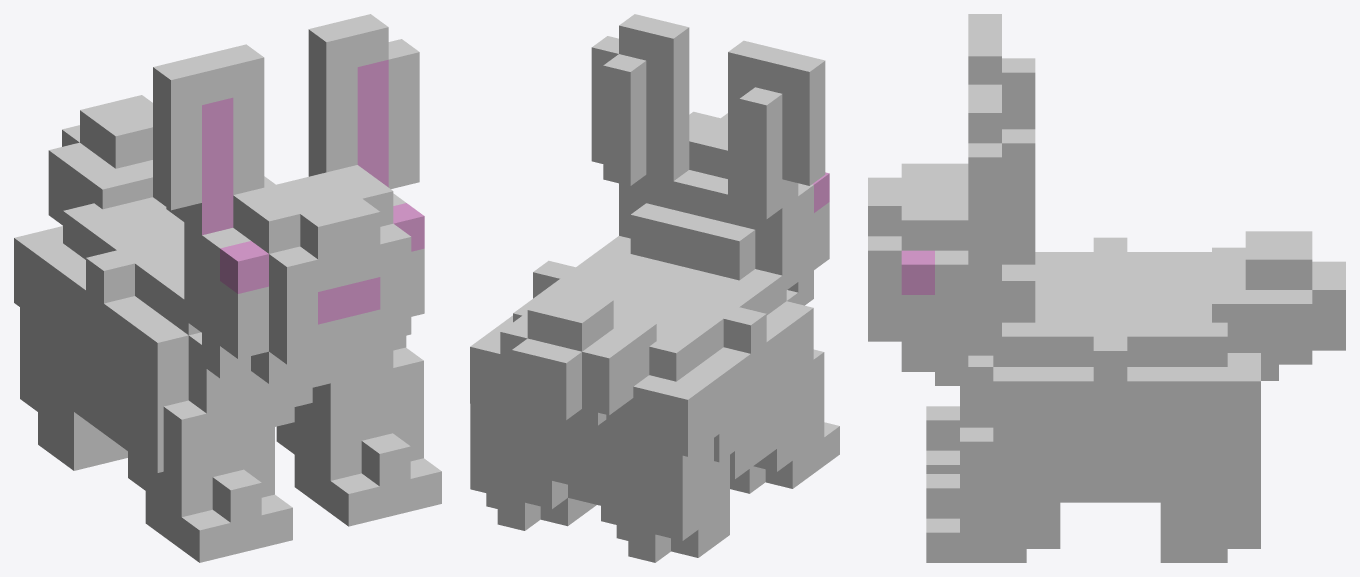
File: rabbit.fbx
3 views of the same model, side by side, from view 1: azimuth 30°, elevation 25°; view 2: azimuth 150°, elevation 25°; view 3: azimuth 270°, elevation 25° (orthographic). The views are drawn at different scales.
Visible parts, largest first — view 1: head, body, F_L, F_R, tail, B_R; view 2: head, body, tail, B_R, B_L, F_R; view 3: body, head, tail, F_L, B_L, F_R.
Boxes of the visible parts, x1,y1,x2,y2 form: head: (153, 14, 424, 383); body: (14, 176, 406, 472); F_L: (276, 347, 441, 526); F_R: (128, 397, 292, 562); tail: (48, 95, 152, 225); B_R: (20, 307, 127, 470); head: (591, 14, 829, 305); body: (470, 236, 813, 505); tail: (500, 287, 656, 425); B_R: (601, 435, 729, 562); B_L: (470, 404, 596, 530); F_R: (730, 349, 839, 493); body: (960, 237, 1260, 502); head: (868, 14, 1035, 385); tail: (1212, 231, 1345, 380); F_L: (926, 427, 1060, 562); B_L: (1160, 442, 1260, 562); F_R: (926, 406, 959, 473).
Bounding box in the file's own units: 0.8 × 1.44 × 1.43.
